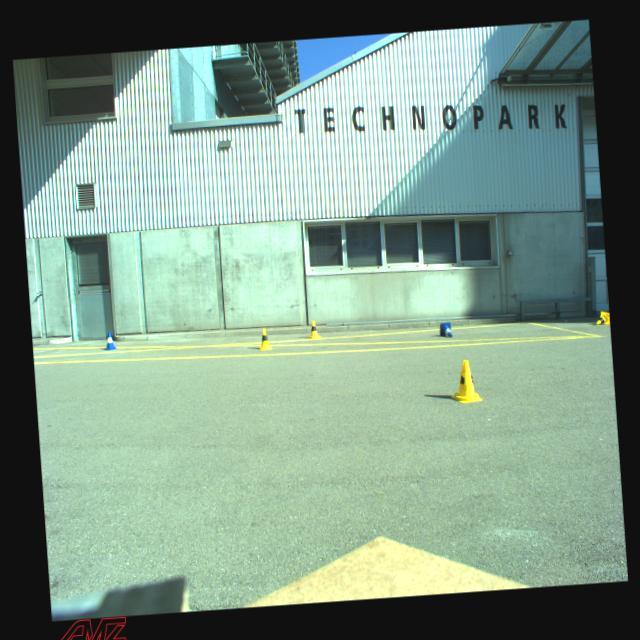blue_cone: (102, 331, 117, 350), (438, 322, 452, 338)
yellow_cone: (448, 358, 482, 404), (257, 328, 271, 350), (306, 320, 321, 339), (594, 310, 610, 324)
